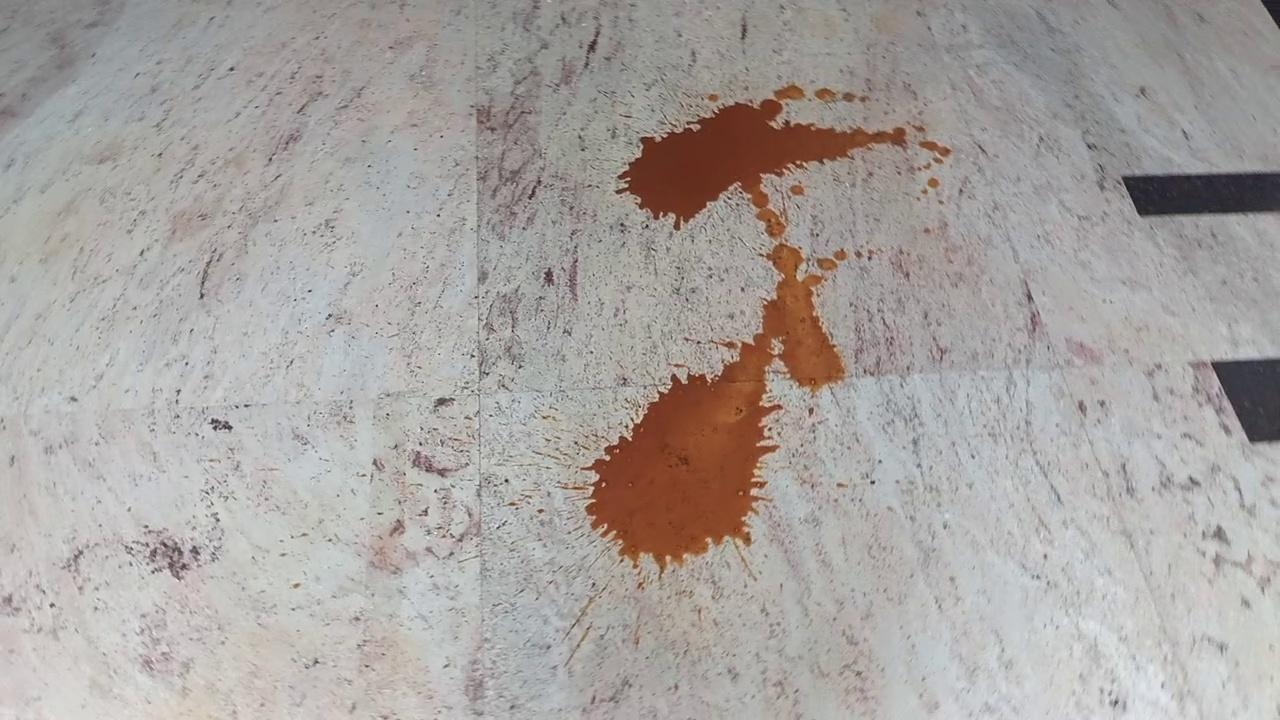dirty_floor: (593, 84, 947, 581)
